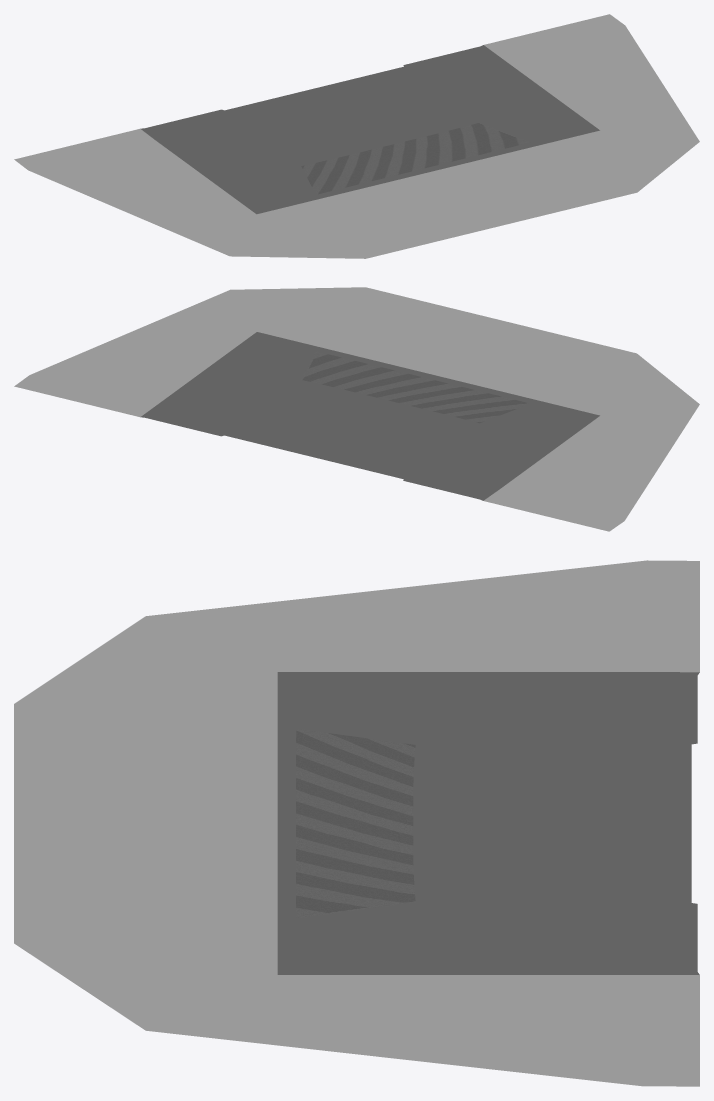
File: SquareTurn.fbx
The picture shows the model from 3 angles, top to bottom: view 1: azimuth 30°, elevation 25°; view 2: azimuth 150°, elevation 25°; view 3: azimuth 270°, elevation 25°; orthographic projection. The views are drawn at different scales.
Visible parts, largest first — view 1: squarebackside, squareRoad; view 2: squarebackside, squareRoad; view 3: squarebackside, squareRoad.
Boxes of the visible parts, x1=… form: squarebackside: x1=14, y1=14, x2=699, y2=258; squareRoad: x1=140, y1=45, x2=599, y2=214; squarebackside: x1=14, y1=287, x2=699, y2=531; squareRoad: x1=140, y1=332, x2=599, y2=500; squarebackside: x1=14, y1=560, x2=699, y2=1086; squareRoad: x1=277, y1=672, x2=699, y2=974.
Size of the model in its own units: 14518 by 0.000671 by 8002.
